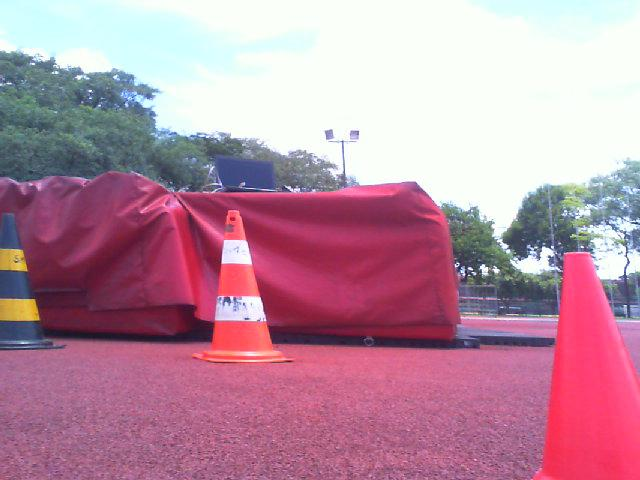0 cone: (529, 252, 640, 480), (190, 210, 295, 363), (0, 212, 67, 349)
